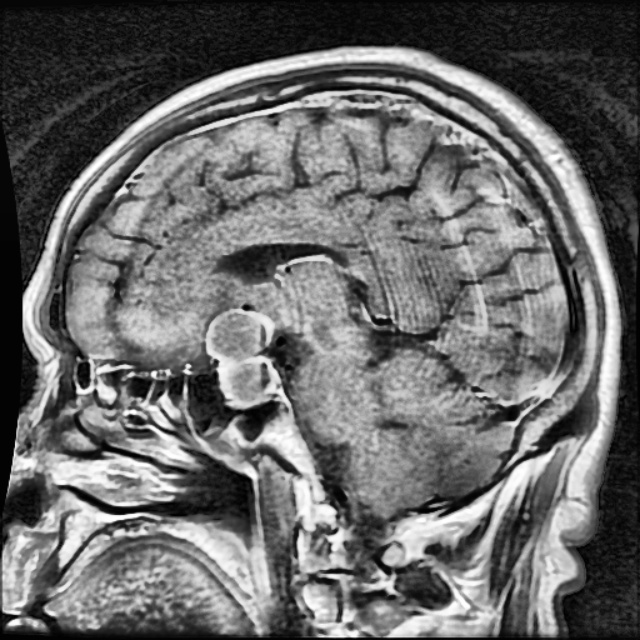Pituitary: (204, 308, 280, 408)
